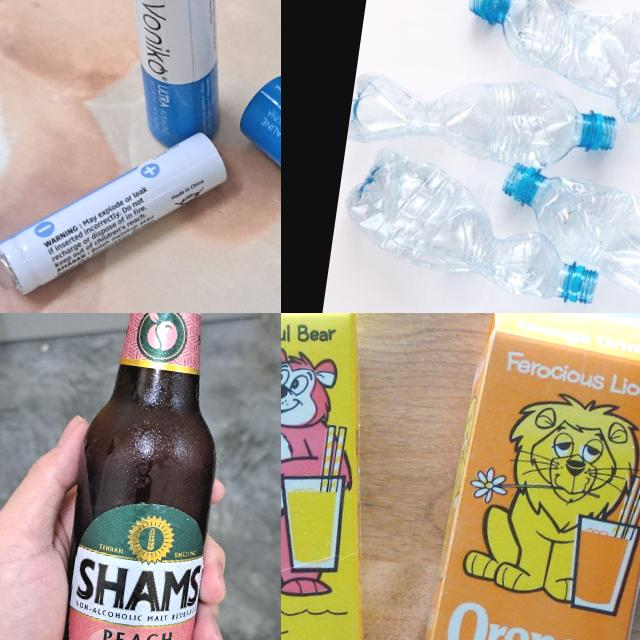bateria: (0, 105, 234, 313), (104, 0, 248, 150), (220, 67, 281, 306)
caixinha: (380, 313, 640, 640), (281, 313, 444, 640)
garrafa de vidro: (35, 313, 251, 640)
garrafa plástica: (335, 143, 613, 304), (346, 60, 620, 176), (456, 0, 640, 130), (490, 160, 640, 313)
